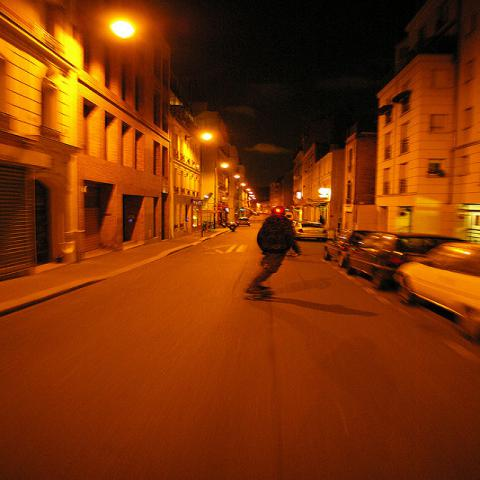car: (392, 241, 479, 343), (340, 229, 470, 290), (322, 229, 354, 267), (293, 221, 328, 241), (236, 218, 251, 227)
